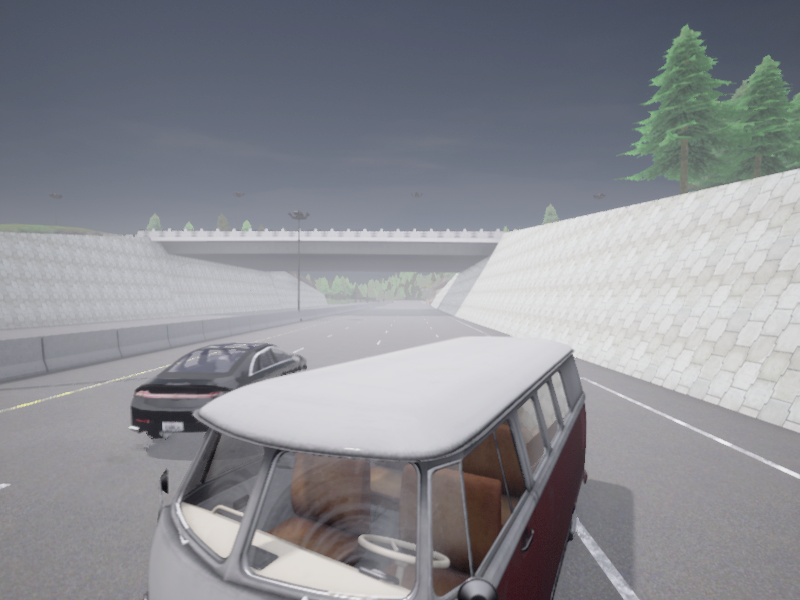vehicle: (143, 336, 587, 599), (129, 343, 307, 439)
